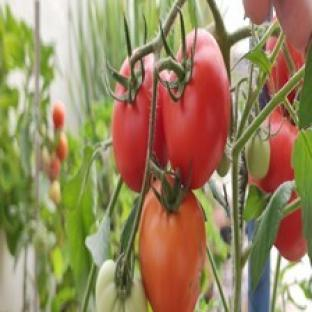Tomato: (163, 30, 231, 189), (140, 190, 206, 311), (112, 55, 154, 192), (251, 111, 298, 193), (97, 260, 147, 311), (275, 209, 306, 261), (268, 49, 293, 96), (246, 134, 270, 179), (52, 101, 65, 129), (56, 133, 68, 161), (48, 156, 61, 181), (49, 180, 61, 206), (218, 154, 231, 176), (41, 147, 51, 171)
